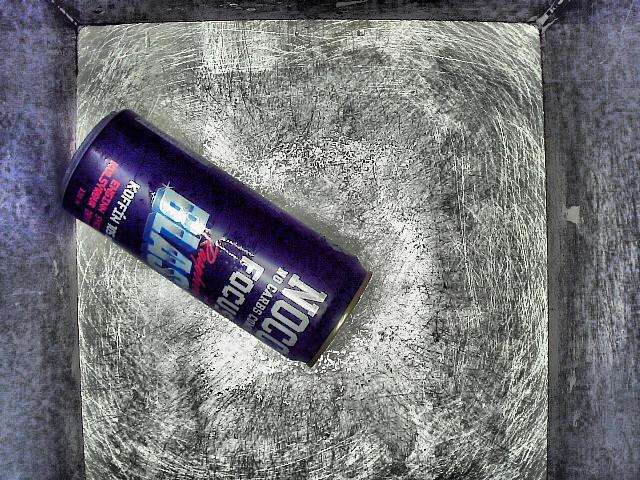Bottles: (58, 103, 381, 386)
